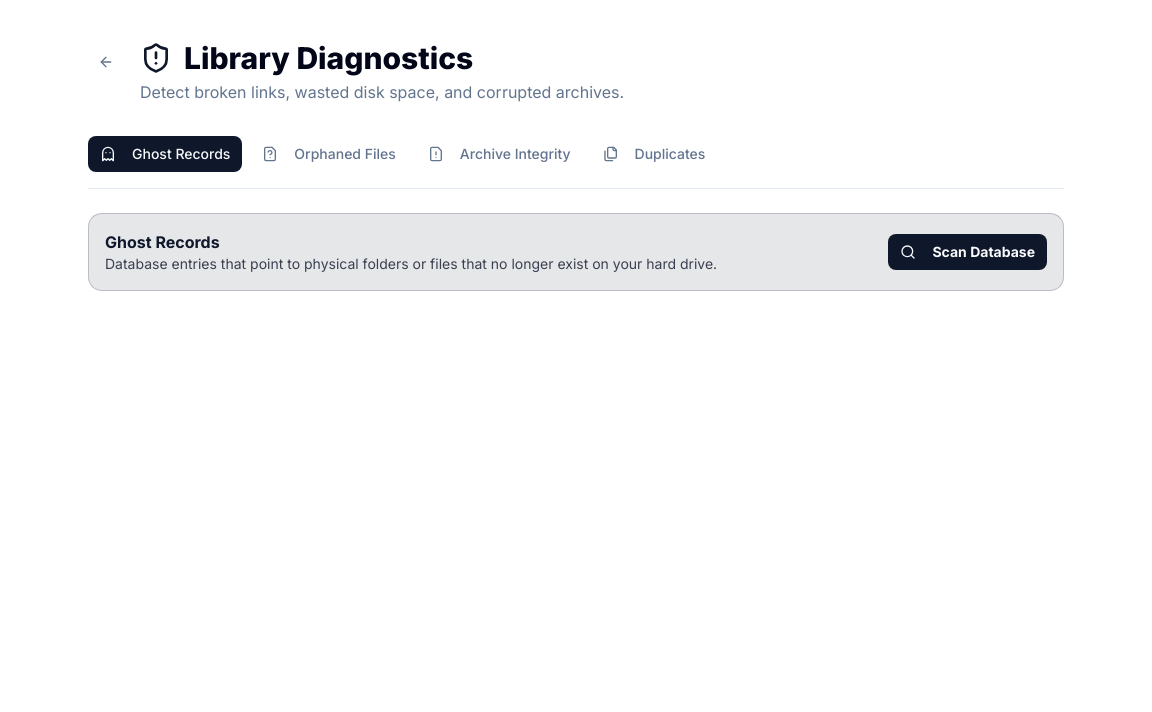
Test: Duplicate Resolver mispair guard (issue #196) › warns on the mispair group and shows each file's own filename number
The image size is (1152, 712).
Click the button "Duplicates". click: {"x": 654, "y": 154}
box: x1=591 y1=136 x2=717 y2=172
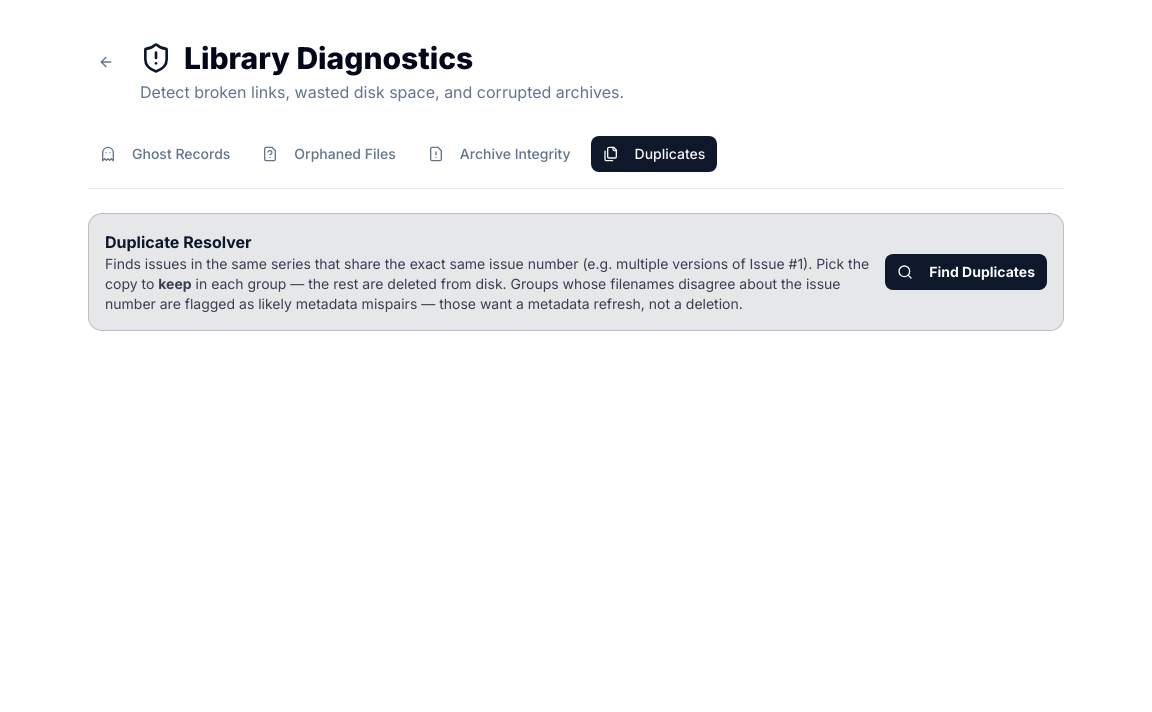
Click the button "Find Duplicates". click: {"x": 966, "y": 272}
box: x1=885 y1=254 x2=1047 y2=290
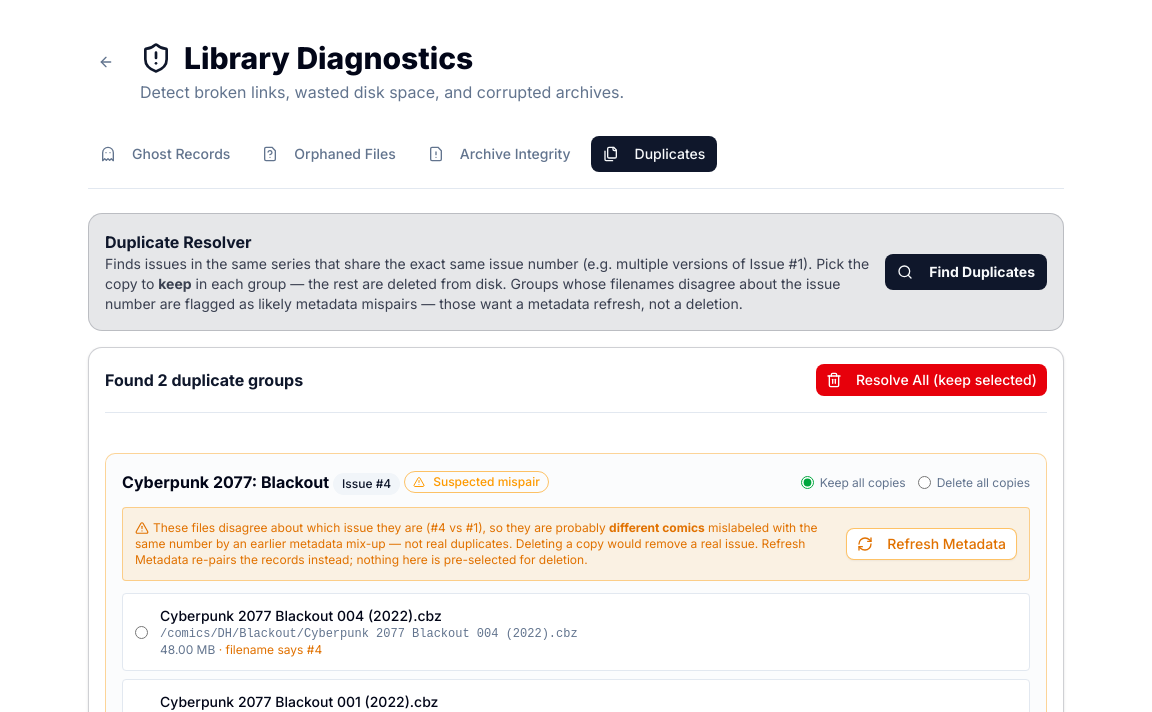
Expected: the text "Found 2 duplicate groups" is shown, x1=105 y1=368 x2=303 y2=392
Expected: the text "different comics" is shown, x1=609 y1=520 x2=705 y2=535
Expected: the text "· filename says #4" is shown, x1=215 y1=642 x2=322 y2=657
